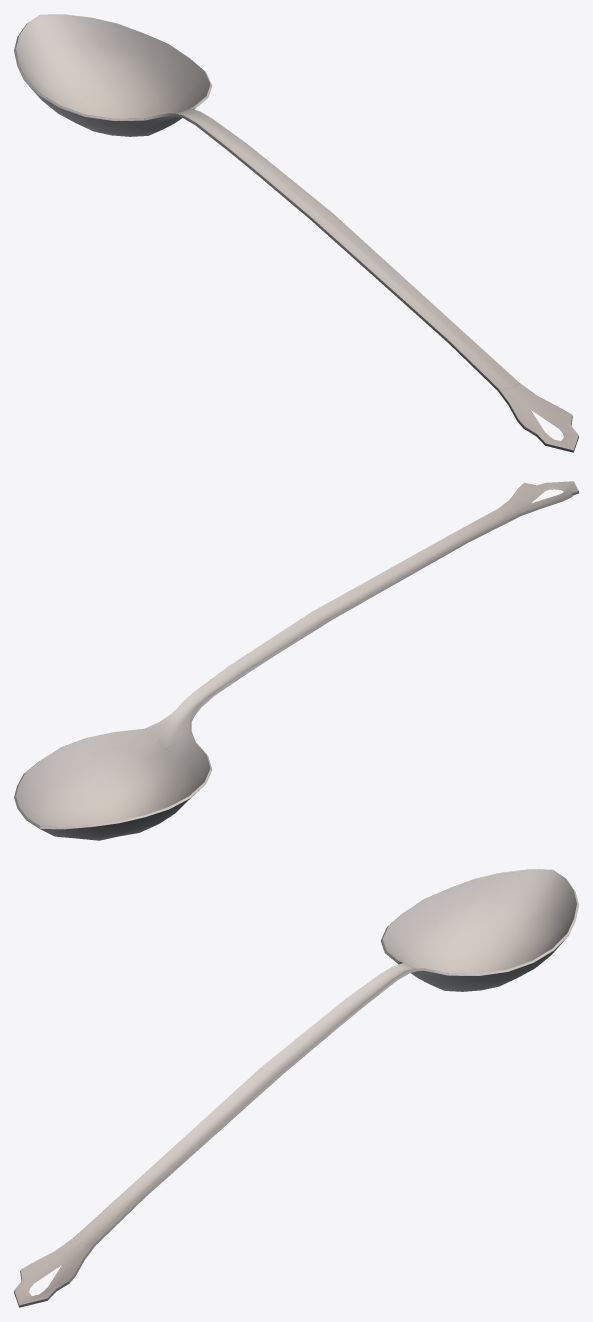
The model's file is spon.obj.
The picture shows the model from 3 angles, top to bottom: view 1: azimuth 30°, elevation 25°; view 2: azimuth 150°, elevation 25°; view 3: azimuth 330°, elevation 25°; orthographic projection.
Visible parts, largest first — view 1: spoon; view 2: spoon; view 3: spoon.
Part boxes in pixels (bbox=[...]): spoon: bbox=[14, 14, 578, 452]; spoon: bbox=[14, 481, 578, 840]; spoon: bbox=[14, 869, 578, 1307].
Size of the model in its own units: 0.0429 by 0.0187 by 0.2623.
